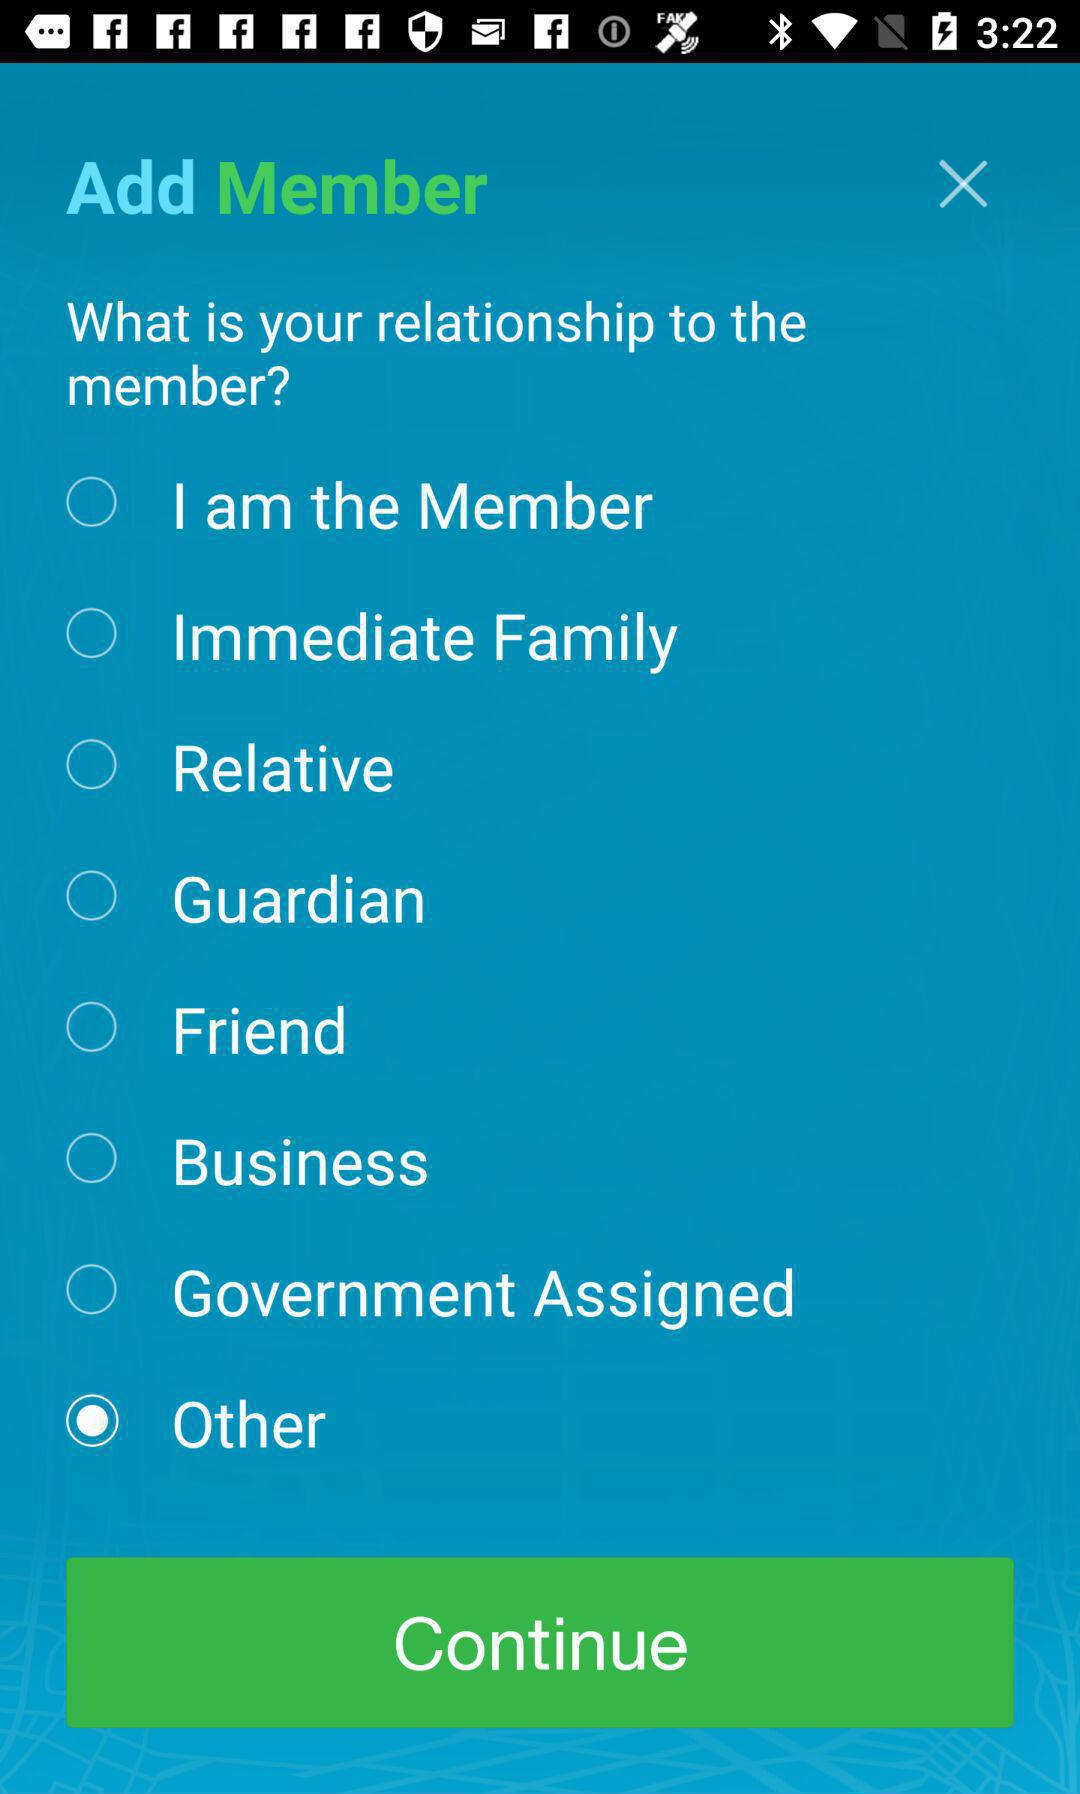CheckedTextView: (67, 1263, 794, 1331), (67, 607, 679, 677), (67, 475, 653, 532), (67, 869, 425, 926), (67, 1132, 428, 1188), (67, 738, 395, 794), (67, 1000, 346, 1057), (67, 1393, 328, 1451)
Icon: (937, 158, 992, 210)
Text: (61, 297, 808, 413), (174, 1267, 794, 1331), (176, 611, 679, 677), (64, 156, 489, 220), (176, 481, 653, 532), (174, 873, 425, 926), (176, 1137, 428, 1188), (176, 742, 395, 794), (176, 1005, 346, 1057), (174, 1398, 328, 1451)
TextButton: (67, 1556, 1015, 1729)
UpperTaskBar: (1, 1, 1080, 64)
